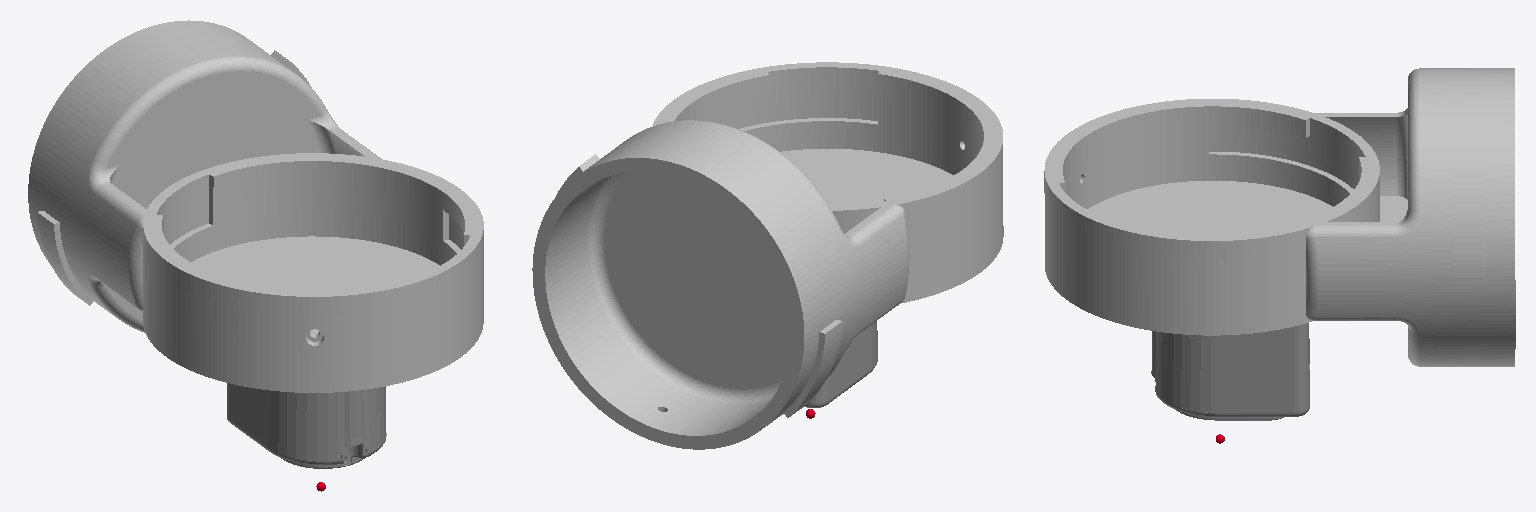
The robot description file, URDF, robot "universal_robot":
<?xml version="1.0"?>
<!--FOR GRIPPER, THERE IS NO LINK INERTIA DEFINED HERE-->
<robot name="universal_robot">

  <!-- Colors -->
  <material name="DarkGrey">
    <color rgba="0.2 0.2 0.2 1.0"/>
  </material>
  <material name="Grey">
    <color rgba="0.4 0.4 0.4 1.0"/>
  </material>
  <material name="Orange">
    <color rgba="1.0 0.423529411765 0.0392156862745 1.0"/>
  </material>
  <material name="Blue">
    <color rgba="0 0.1 1.0 1.0"/>
  </material>
  <material name="LightGrey">
    <color rgba="0.7 0.7 0.7 1.0"/>
  </material>
  <material name="Red">
    <color rgba="0.9 0 0.2 1.0"/>
  </material>
  <material name="TransparentRed">
    <color rgba="0.9 0 0.2 0.5"/>
  </material>
  <material name="Green">
    <color rgba="0 0.9 0.5 1.0"/>
  </material>
  <material name="Yellow">
    <color rgba="0.7 0.7 0 1.0"/>
  </material>
  <material name="LightBlue">
    <color rgba="0. 0.3 1.0 1.0"/>
  </material>
  <material name="Black">
    <color rgba="0.05 0.05 0.05 1.0"/>
  </material>
  <material name="White">
    <color rgba="1.0 1.0 1.0 1.0" />
  </material>



    <!-- connect arm to world -->
      <link name="world"/>
      <joint name="world_joint" type="fixed">
        <parent link="world"/>
        <child link="base_link"/>
        <origin rpy="0.0 0.0 -3.14" xyz="0.0 0.0 0.0"/>
      </joint>


      <link name="base_link">
        <visual>
          <geometry>
            <mesh filename="visual/base.obj"/>
          </geometry>
          <material name="LightGrey"/>
        </visual>
        <collision>
          <geometry>
            <mesh filename="collision/base.stl"/>
          </geometry>
        </collision>
        <inertial>
          <mass value="4.0"/>
          <origin rpy="0 0 0" xyz="0.0 0.0 0.0"/>
          <inertia ixx="0.00443333156" ixy="0.0" ixz="0.0" iyy="0.00443333156" iyz="0.0" izz="0.0072"/>
        </inertial>
      </link>

      <joint name="base_joint" type="revolute">
        <parent link="base_link"/>
        <child link="shoulder_link"/>
        <origin rpy="0.0 0.0 0.0" xyz="0.0 0.0 0.089159"/>
        <axis xyz="0 0 1"/>
        <limit effort="150.0" lower="-100" upper="100" velocity="3.15"/>
        <dynamics damping="0.5" friction="0.0"/>
      </joint>

      <link name="shoulder_link">
        <visual>
          <geometry>
            <mesh filename="visual/shoulder.obj"/>
          </geometry>
          <material name="DarkGrey"/>
        </visual>
        <collision>
          <geometry>
            <mesh filename="collision/shoulder.stl"/>
          </geometry>
        </collision>
        <inertial>
          <mass value="3.7"/>
          <origin rpy="0 0 0" xyz="0.0 0.0 0.0"/>
          <inertia ixx="0.010267495893" ixy="0.0" ixz="0.0" iyy="0.010267495893" iyz="0.0" izz="0.00666"/>
        </inertial>
      </link>

      <joint name="shoulder_joint" type="revolute">
        <parent link="shoulder_link"/>
        <child link="upper_arm_link"/>
        <origin rpy="0.0 1.57079632679 0.0" xyz="0.0 0.13585 0.0"/>
        <axis xyz="0 1 0"/>
        <limit effort="150.0" lower="-100" upper="100" velocity="3.15"/>
        <dynamics damping="0.5" friction="0.0"/>
      </joint>

      <link name="upper_arm_link">
        <visual>
          <geometry>
            <mesh filename="visual/upperarm.obj"/>
          </geometry>
          <material name="LightGrey"/>
        </visual>
        <collision>
          <geometry>
            <mesh filename="collision/upperarm.stl"/>
          </geometry>
        </collision>
        <inertial>
          <mass value="8.393"/>
          <origin rpy="0 0 0" xyz="0.0 0.0 0.28"/>
          <inertia ixx="0.22689067591" ixy="0.0" ixz="0.0" iyy="0.22689067591" iyz="0.0" izz="0.0151074"/>
        </inertial>
      </link>

      <joint name="elbow_joint" type="revolute">
        <parent link="upper_arm_link"/>
        <child link="forearm_link"/>
        <origin rpy="0.0 0.0 0.0" xyz="0.0 -0.1197 0.425"/>
        <axis xyz="0 1 0"/>
        <limit effort="150.0" lower="-100" upper="100" velocity="3.15"/>
        <dynamics damping="0.5" friction="0.0"/>
      </joint>

      <link name="forearm_link">
        <visual>
          <geometry>
            <mesh filename="visual/forearm.obj"/>
          </geometry>
          <material name="DarkGrey"/>
        </visual>
        <collision>
          <geometry>
            <mesh filename="collision/forearm.stl"/>
          </geometry>
        </collision>
        <inertial>
          <mass value="2.275"/>
          <origin rpy="0 0 0" xyz="0.0 0.0 0.25"/>
          <inertia ixx="0.049443313556" ixy="0.0" ixz="0.0" iyy="0.049443313556" iyz="0.0" izz="0.004095"/>
        </inertial>
      </link>

      <joint name="wrist_1_joint" type="revolute">
        <parent link="forearm_link"/>
        <child link="wrist_1_link"/>
        <origin rpy="0.0 1.57079632679 0.0" xyz="0.0 0.0 0.39225"/>
        <axis xyz="0 1 0"/>
        <limit effort="28.0" lower="-100" upper="100" velocity="3.2"/>
        <dynamics damping="0.5" friction="0.0"/>
      </joint>

      <link name="wrist_1_link">
        <visual>
          <geometry>
            <mesh filename="visual/wrist1.obj"/>
          </geometry>
          <material name="LightGrey"/>
        </visual>
        <collision>
          <geometry>
            <mesh filename="collision/wrist1.stl"/>
          </geometry>
        </collision>
        <inertial>
          <mass value="1.219"/>
          <origin rpy="0 0 0" xyz="0.0 0.0 0.0"/>
          <inertia ixx="0.111172755531" ixy="0.0" ixz="0.0" iyy="0.111172755531" iyz="0.0" izz="0.21942"/>
        </inertial>
      </link>

      <joint name="wrist_2_joint" type="revolute">
        <parent link="wrist_1_link"/>
        <child link="wrist_2_link"/>
        <origin rpy="0.0 0.0 0.0" xyz="0.0 0.093 0.0"/>
        <axis xyz="0 0 1"/>
        <limit effort="28.0" lower="-100" upper="100" velocity="3.2"/>
        <dynamics damping="0.5" friction="0.0"/>
      </joint>

      <link name="wrist_2_link">
        <visual>
          <geometry>
            <mesh filename="visual/wrist2.obj"/>
          </geometry>
          <material name="DarkGrey"/>
        </visual>
        <collision>
          <geometry>
            <mesh filename="collision/wrist2.stl"/>
          </geometry>
        </collision>
        <inertial>
          <mass value="1.219"/>
          <origin rpy="0 0 0" xyz="0.0 0.0 0.0"/>
          <inertia ixx="0.111172755531" ixy="0.0" ixz="0.0" iyy="0.111172755531" iyz="0.0" izz="0.21942"/>
        </inertial>
      </link>

      <joint name="wrist_3_joint" type="revolute">
        <parent link="wrist_2_link"/>
        <child link="wrist_3_link"/>
        <origin rpy="0.0 0.0 0.0" xyz="0.0 0.0 0.09465"/>
        <axis xyz="0 1 0"/>
        <limit effort="28.0" lower="-100" upper="100" velocity="3.2"/>
        <dynamics damping="0.5" friction="0.0"/>
      </joint>

      <link name="wrist_3_link">
        <visual>
          <geometry>
            <mesh filename="visual/wrist3.obj"/>
          </geometry>
          <material name="LightGrey"/>
        </visual>
        <collision>
          <geometry>
            <mesh filename="collision/wrist3.stl"/>
          </geometry>
        </collision>
        <inertial>
          <mass value="0.1879"/>
          <origin rpy="0 0 0" xyz="0.0 0.0 0.0"/>
          <inertia ixx="0.0171364731454" ixy="0.0" ixz="0.0" iyy="0.0171364731454" iyz="0.0" izz="0.033822"/>
        </inertial>
      </link>

      <!-- End Effector -->

      <joint name="ee_joint" type="fixed">
        <parent link="wrist_3_link"/>
        <child link="ee_link"/>
        <origin rpy="1.57 3.14 0.0" xyz="0.0 0.0823 0.0"/>
      </joint>

      <link name="ee_link">
        <visual>
          <origin rpy="0 0 0" xyz="0 0 0"/>
          <geometry>
            <sphere radius="0.001"/>
          </geometry>
           <material name="Red"/>
        </visual>
        <collision>
          <geometry>
            <sphere radius="0.001"/>
          </geometry>
          <origin rpy="0 0 0" xyz="0.0 0 0"/>
        </collision>
        <inertial>
          <mass value="0.0"/>
          <origin rpy="-3.14 0.0 1.57" xyz="0.0 0.0 0.0"/>
          <inertia ixx="0.001" ixy="0.0" ixz="0.0" iyy="0.001" iyz="0.0" izz="0.001"/>
        </inertial>
      </link>

      <!-- digitac -->

      <link name="tactip_adapter_link">
        <inertial>
          <origin rpy="0 0 0" xyz="0 0 0"/>
           <mass value="0.1"/>
           <inertia ixx="0.001" ixy="0" ixz="0" iyy="0.001" iyz="0" izz="0.001"/>
        </inertial>
        <visual>
          <origin rpy="0 0 0" xyz="0 0 0"/>
          <geometry>
    				<mesh filename="../tactip/right_angle_tactip/adapter/right_angle_adapter.obj" scale="1.0 1.0 1.0"/>
          </geometry>
           <material name="whitish">
            <color rgba="0.8 0.8 0.8 1.0"/>
          </material>
        </visual>
        <collision>
          <origin rpy="0 0 0" xyz="0 0 0"/>
          <geometry>
    				<mesh filename="../tactip/right_angle_tactip/adapter/right_angle_adapter.obj" scale="1.0 1.0 1.0"/>
          </geometry>
        </collision>
      </link>

      <joint name="digitac_ee_joint" type="fixed">
        <parent link="ee_link"/>
        <child link="tactip_adapter_link"/>
        <origin rpy="-1.57 -1.57 0" xyz="0.0 -0.005 -0.04"/>
      </joint>


  <link
    name="digitac_body_link">
  <inertial>
      <origin
        xyz="0.0044483897843889 -0.0137570316187898 -1.33478473442024E-08+0.02"
        rpy="0 0 0" />
      <mass
        value="0.00791827593084163" />
      <inertia
        ixx="7.86145751817283E-07"
        ixy="-4.85149902505629E-09"
        ixz="4.89421524982813E-12"
        iyy="1.59818901807298E-06"
        iyz="-2.18755873901251E-12"
        izz="1.06961344577448E-06" />
    </inertial>
    <visual>
      <origin
        xyz="0 0 0.02"
        rpy="0 0 0" />
      <geometry>
        <mesh
          filename="../digitac/standard_digitac/digitac_asmb/meshes/digitac_body.STL" />
      </geometry>
      <material
        name="">
        <color
          rgba="0.627450980392157 0.627450980392157 0.627450980392157 1" />
      </material>
    </visual>
    <collision>
      <origin
        xyz="0 0 0.02"
        rpy="0 0 0" />
      <geometry>
        <mesh
          filename="../digitac/standard_digitac/digitac_asmb/meshes/digitac_body.STL" />
      </geometry>
    </collision>
  </link>


      <joint name="digitac_body_to_adapter" type="fixed">
         <origin rpy="0 3.14 3.14" xyz="0 0 -0.014"/>
         <parent link="tactip_adapter_link"/>
         <child link="digitac_body_link"/>
      </joint>

  <link
    name="digitac_tip_link">


        <inertial>
      <origin
        xyz="1.95689617055233E-05 -0.00418318281817305 -0.00513072481258713-0.02"
        rpy="0 0 0" />
      <mass
        value="0.000211579321175967" />
      <inertia
        ixx="1.6421406108058E-08"
        ixy="-3.59682768116548E-11"
        ixz="8.26721658003392E-12"
        iyy="1.10821033019274E-08"
        iyz="-1.94916165896316E-10"
        izz="2.23470337659004E-08" />
    </inertial>
    <visual>
      <origin
        xyz="0 0 -0.02"
        rpy="0 0 0" />
      <geometry>
        <mesh
          filename="../digitac/standard_digitac/digitac_asmb_hollow/meshes/digitac_core.STL" />
      </geometry>
      <material
        name="">
        <color
          rgba="0.792156862745098 0.819607843137255 0.933333333333333 1" />
      </material>
    </visual>
    <collision>
      <origin
        xyz="0 0 -0.02"
        rpy="0 0 0" />
      <geometry>
        <mesh
          filename="../digitac/standard_digitac/digitac_asmb/meshes/digitac_core.STL" />
      </geometry>
    </collision>



  </link>




  <joint
    name="digitac_tip_to_body"
    type="fixed">
    <origin
      xyz="0 0 0"
      rpy="3.14159265358979 0 -1.5707963267949" />
    <parent
      link="digitac_body_link" />
    <child
      link="digitac_tip_link" />
    <axis
      xyz="0 0 0" />
  </joint>


      <!-- TCP -->
      <link name="tcp_link">
        <visual>
          <origin rpy="0 0 0" xyz="0 0 0"/>
          <geometry>
            <sphere radius="0.001"/>
          </geometry>
           <material name="TransparentRed"/>
        </visual>
        <inertial>
          <mass value="0.0"/>
          <origin rpy="0.0 0.0 1.57" xyz="0.0 0.0 0.0"/>
          <inertia ixx="1.0" ixy="0.0" ixz="0.0" iyy="1.0" iyz="0.0" izz="1.0"/>
        </inertial>
      </link>

      <joint name="tcp_joint" type="fixed">
        <parent link="digitac_body_link"/>
        <child link="tcp_link"/>
        <!-- y x z -->
        <origin rpy="1.57 0 -1.57" xyz="0.0007 0.0 0.031"/>
        <!-- <origin rpy="0 0 0" xyz="0.00145 0.0 0.025"/> -->
        <!-- <origin rpy="0 0 0" xyz="0.0018 0.0 0.025"/> -->
      </joint>



  <!-- <link
    name="sq_link">
    <inertial>
      <origin
        xyz="-0.00535000000000003 0.00799999999999999 5.00000000005617E-06-0.02"
        rpy="0 0 0" />
      <mass
        value="1.59999999999993E-07" />
      <inertia
        ixx="5.33346666666645E-14"
        ixy="-1.34013559776601E-30"
        ixz="4.41903370583012E-33"
        iyy="5.33346666666645E-14"
        iyz="-3.65677197028787E-28"
        izz="1.06666666666662E-13" />
    </inertial>
    <visual>
      <origin
        xyz=" +0.22  +0.22  +0.22"
        rpy="0 0 0" />
      <geometry>
        <mesh
          filename="../digitac/standard_digitac/digitac_asmb_skin_with_marks/meshes/sq_link.STL" />
      </geometry>
      <material
        name="Green">
        <color
          rgba="0.9 0.9 0.9 0" />
      </material>
    </visual>
    <collision>
      <origin
        xyz=" +0.22  +0.22 +0.22"
        rpy="0 0 0" />
      <geometry>
        <mesh
          filename="../digitac/standard_digitac/digitac_asmb_skin_with_marks/meshes/sq_link.STL" />
      </geometry>
    </collision>
  </link>


  <joint
    name="skin_sq_joint"
    type="fixed">
    <origin
      xyz="-0.00535000000000005 0.0132650762017464 -0.00645000000000009"
      rpy="0 0 3.14159265358979" />
    <parent
      link="digitac_tip_link" />
    <child
      link="sq_link" />
    <axis
      xyz="0 0 0" />
  </joint> -->

</robot>

--- Render facts (derived) ---
The picture shows the robot from 3 angles, left to right: view 1: azimuth 30°, elevation 25°; view 2: azimuth 150°, elevation 25°; view 3: azimuth 270°, elevation 25°; orthographic projection.
Model universal_robot with 13 links and 12 joints (6 revolute, 6 fixed), rooted at world, posed all joints at 0.
Visible links, largest first — view 1: tactip_adapter_link, digitac_body_link; view 2: tactip_adapter_link, digitac_body_link; view 3: tactip_adapter_link, digitac_body_link.
Link boxes in pixels (x1,y1,x2,y2): tactip_adapter_link: [28, 20, 483, 392]; digitac_body_link: [227, 383, 386, 468]; tactip_adapter_link: [532, 62, 1003, 449]; digitac_body_link: [804, 321, 877, 407]; tactip_adapter_link: [1044, 68, 1515, 366]; digitac_body_link: [1151, 323, 1309, 420].
Size in the robot's own frame: 0.0721 by 0.1011 by 0.0841 metres.
2 mesh visuals loaded from 10 distinct referenced files (1 binary STL, 1 OBJ); not drawn: 8 (reference not matched to a file when rendering).